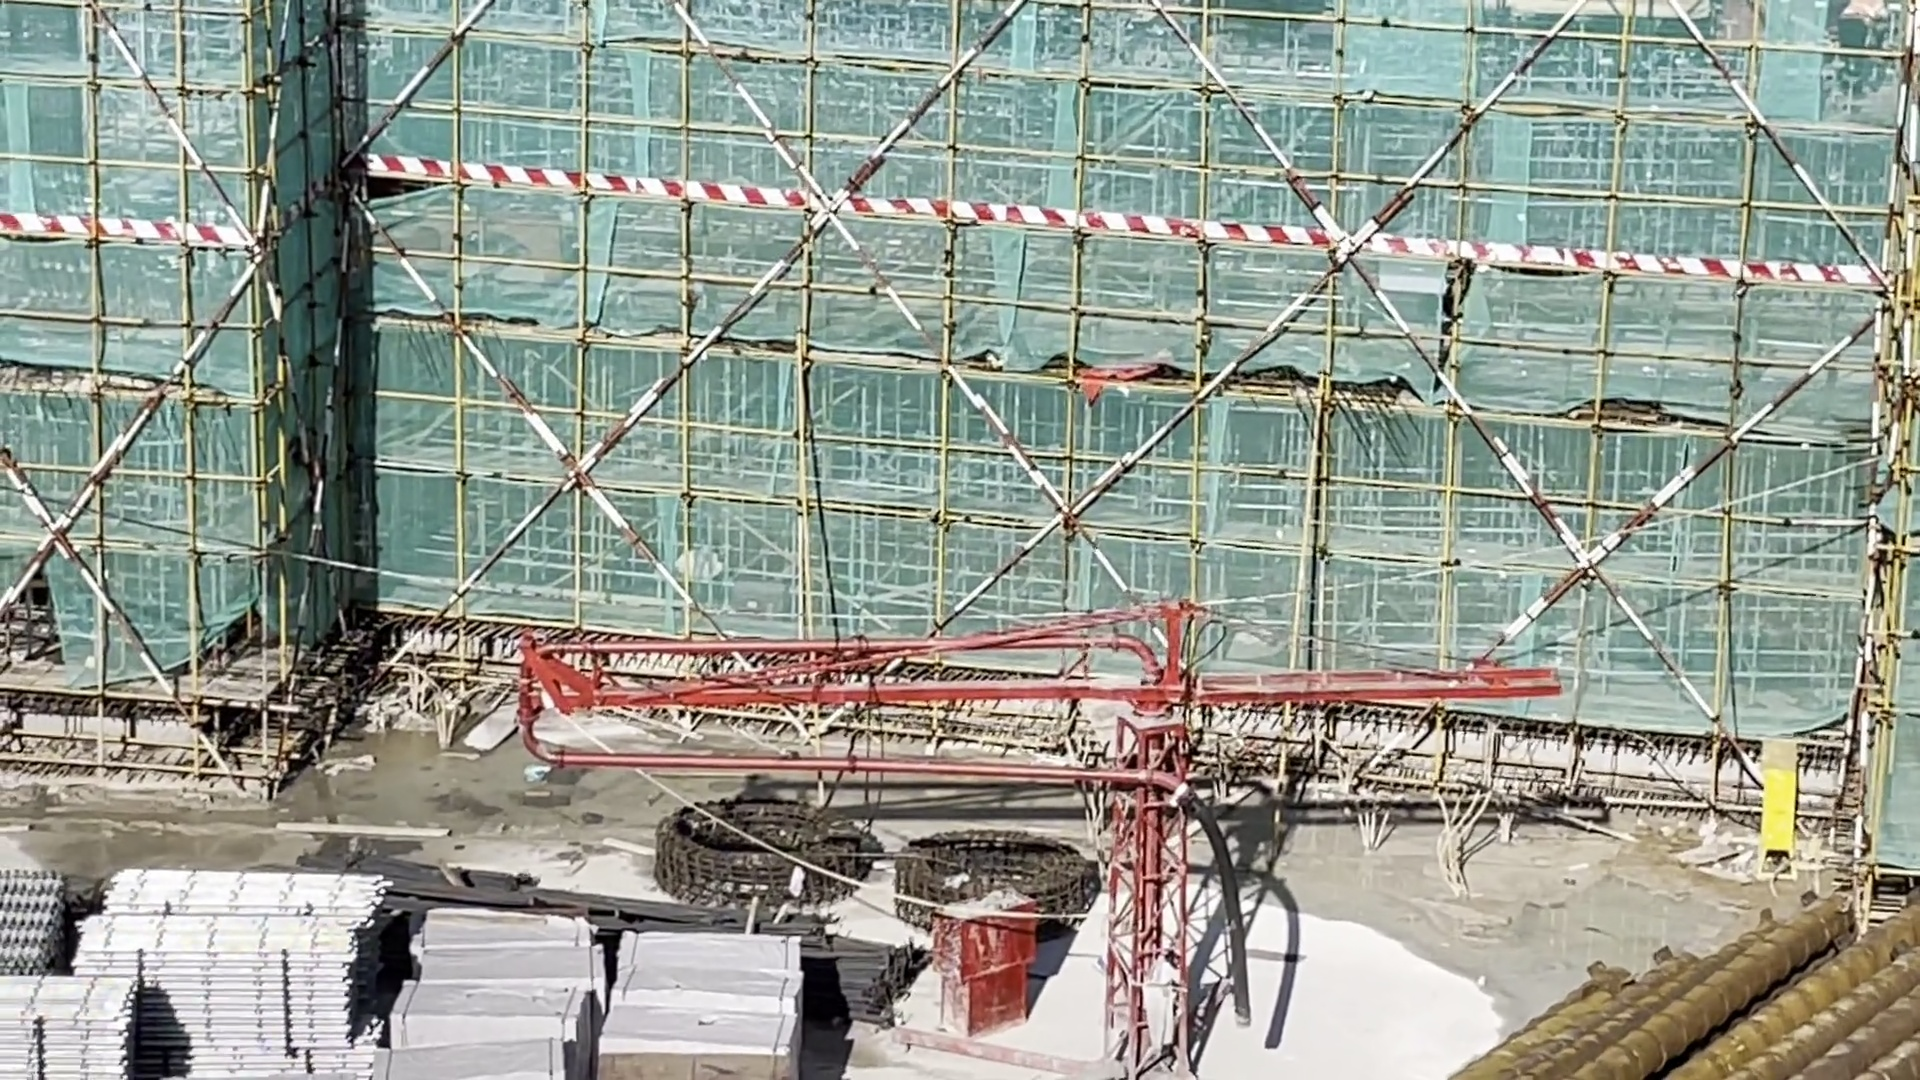board: (588, 1052, 866, 1077)
ebox: (1749, 744, 1771, 882)
rebar: (1425, 899, 1920, 1073), (393, 866, 694, 919), (807, 932, 901, 1025)
scaffold: (88, 866, 389, 1062), (11, 972, 156, 1080), (1, 890, 51, 1000)
